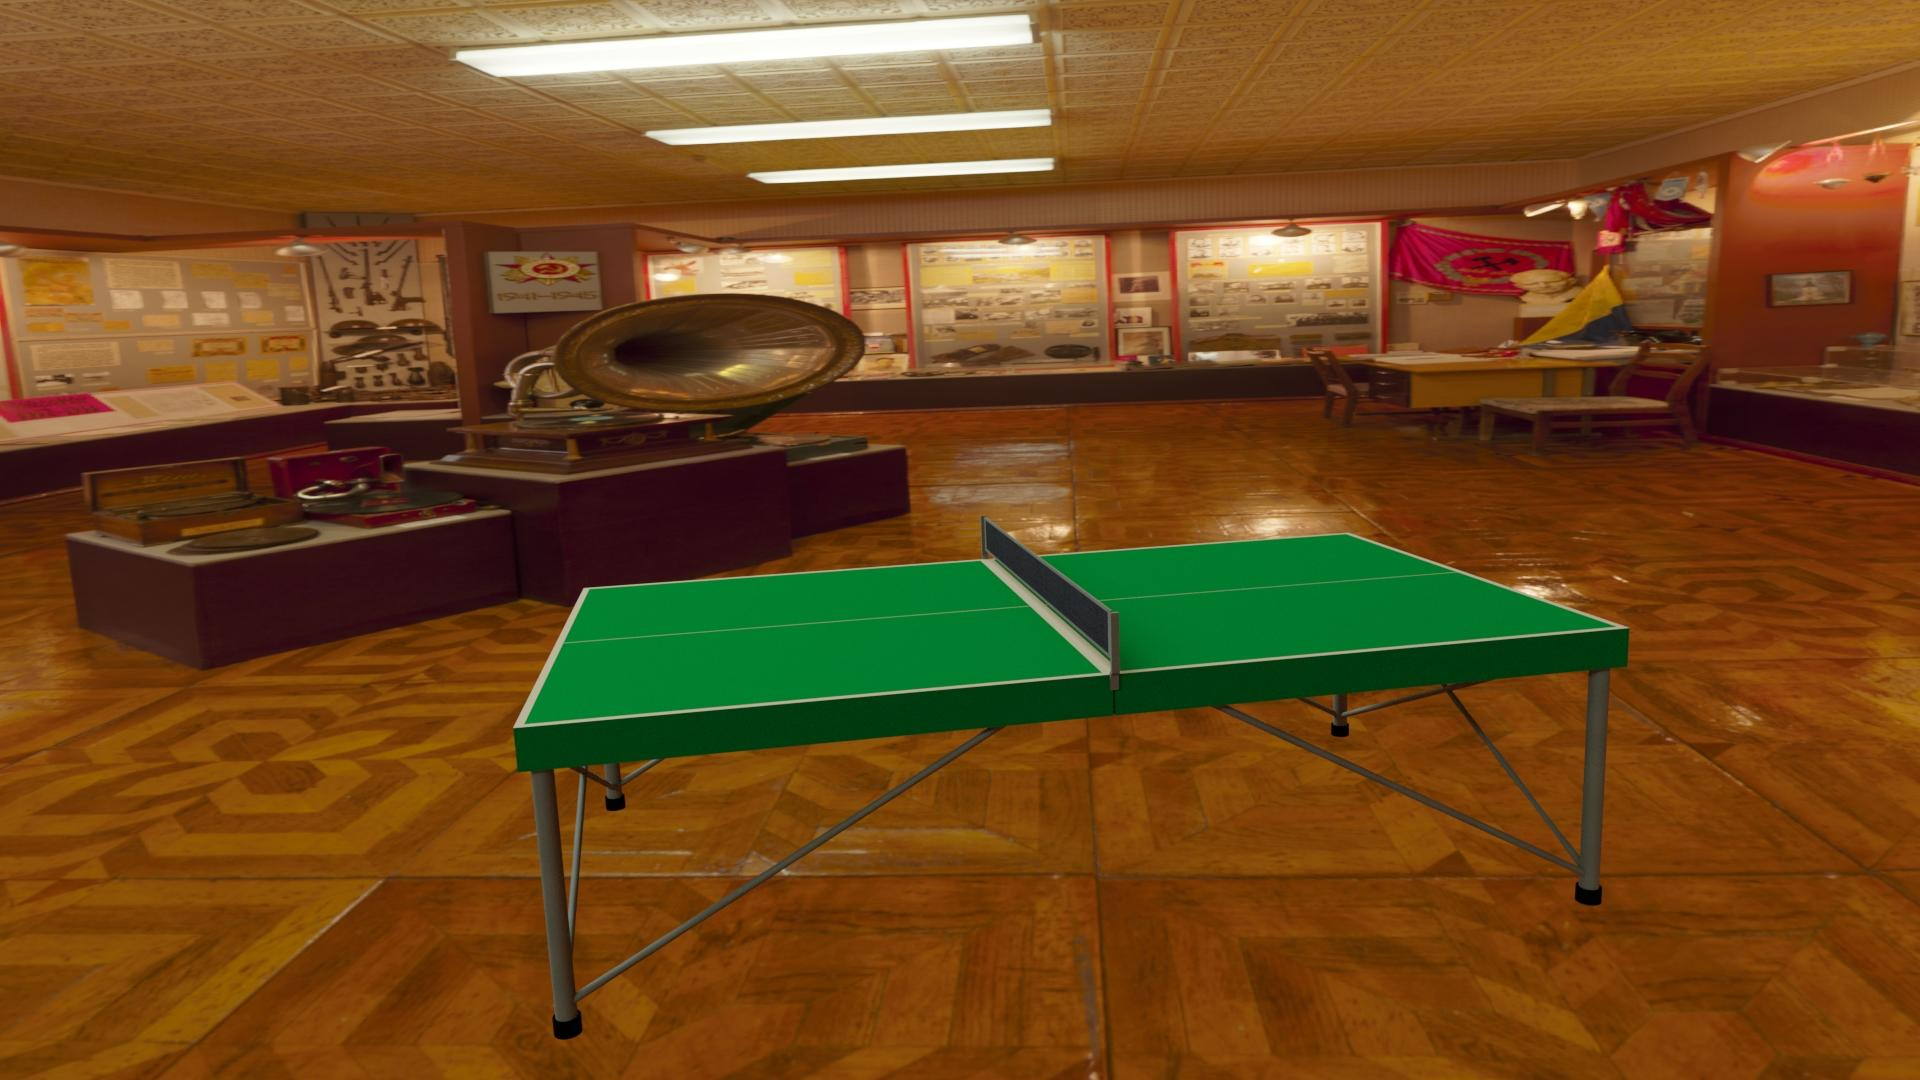table: (524, 534, 1617, 724)
